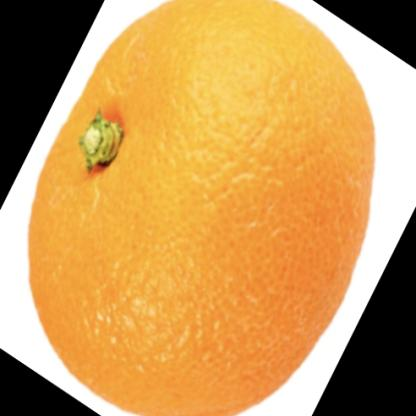fresh: (30, 1, 376, 416)
